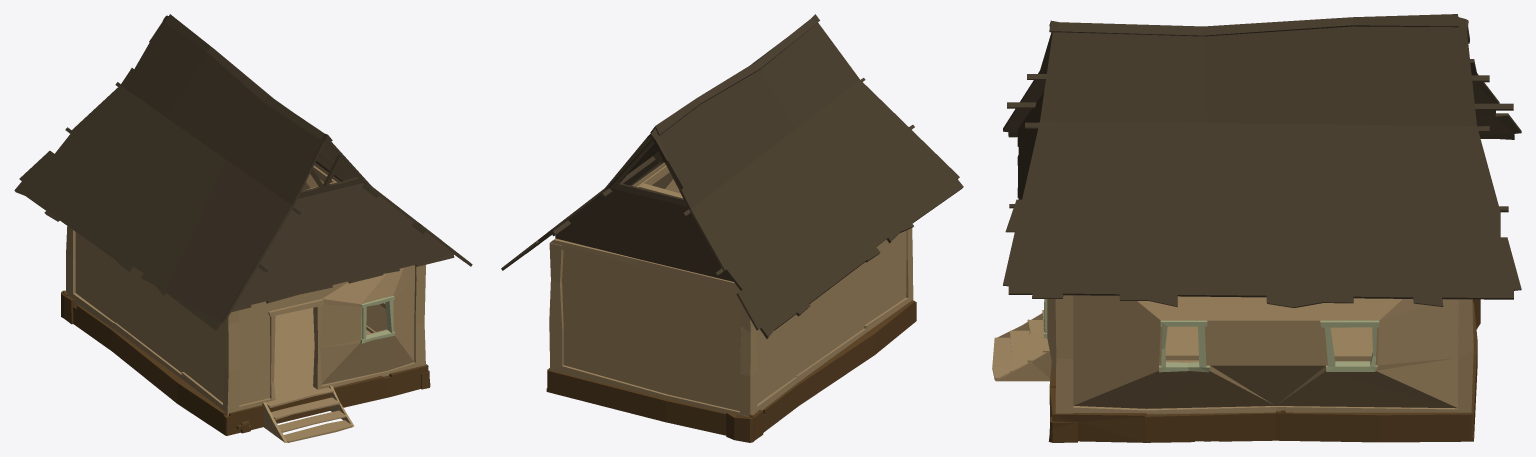
Rendered from Gallery1.fbx.
The picture shows the model from 3 angles, left to right: view 1: azimuth 30°, elevation 25°; view 2: azimuth 150°, elevation 25°; view 3: azimuth 270°, elevation 25°; orthographic projection. The views are drawn at different scales.
Parts seen in each view (by area): view 1: Roof, WoodCabin; view 2: Roof, WoodCabin; view 3: Roof, WoodCabin.
Part boxes in pixels (bbox=[...]): Roof: bbox=[14, 14, 472, 330]; WoodCabin: bbox=[61, 163, 430, 442]; Roof: bbox=[501, 14, 963, 338]; WoodCabin: bbox=[546, 162, 916, 442]; Roof: bbox=[1003, 14, 1521, 307]; WoodCabin: bbox=[992, 295, 1480, 442].
Bounding box in the file's own units: 6663 × 6672 × 8792.
